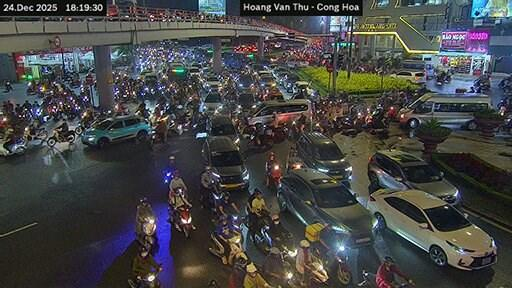motorbike: (322, 244, 351, 284), (245, 211, 271, 252), (291, 256, 326, 286), (134, 211, 156, 252), (271, 234, 297, 264), (198, 181, 220, 210), (227, 233, 246, 264), (73, 111, 98, 134), (173, 207, 191, 238), (246, 127, 272, 148), (128, 270, 160, 287), (22, 125, 47, 142), (266, 161, 280, 189), (47, 130, 73, 145), (0, 138, 24, 154), (208, 232, 223, 256), (358, 271, 377, 287), (496, 117, 511, 133), (288, 121, 300, 140), (287, 158, 304, 171), (272, 125, 285, 142), (474, 76, 489, 89), (499, 75, 511, 88), (25, 81, 37, 93), (435, 75, 444, 85), (3, 81, 12, 91), (391, 283, 408, 287)
